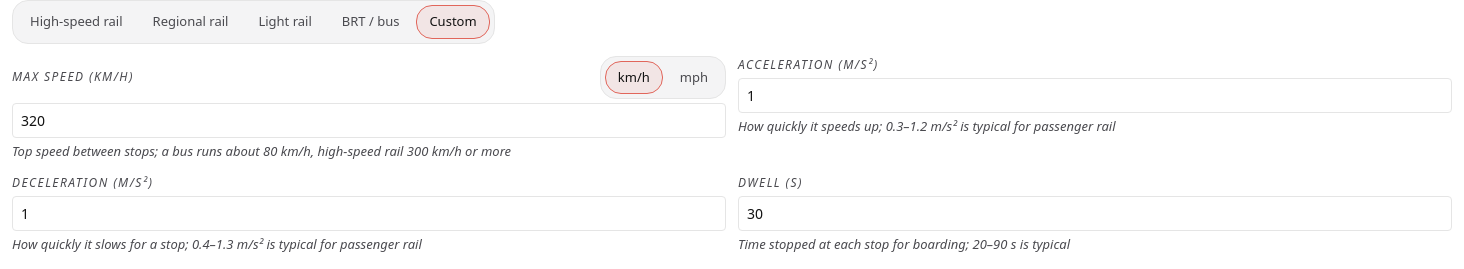
Scenario: VehicleFields › speed unit › shows the same speed in mph when toggled, without changing the stored value
Click the radio button with test id "vehicle-speed-unit-option-mph" at (694, 76), box [680, 68, 708, 86]
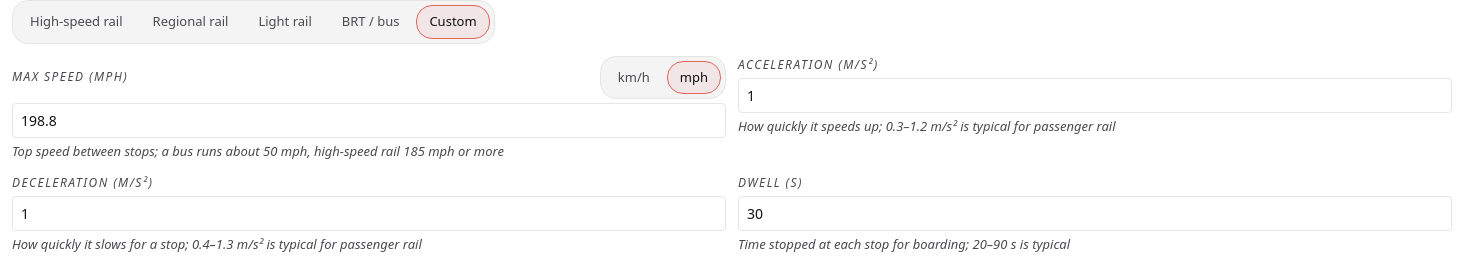
Expected: the label with test id "vehicle-max-speed-label" reads "Max speed (mph)", [12, 68, 128, 85]
Expected: the text with test id "vehicle-max-speed-help" shows "50 mph", [12, 142, 504, 160]
